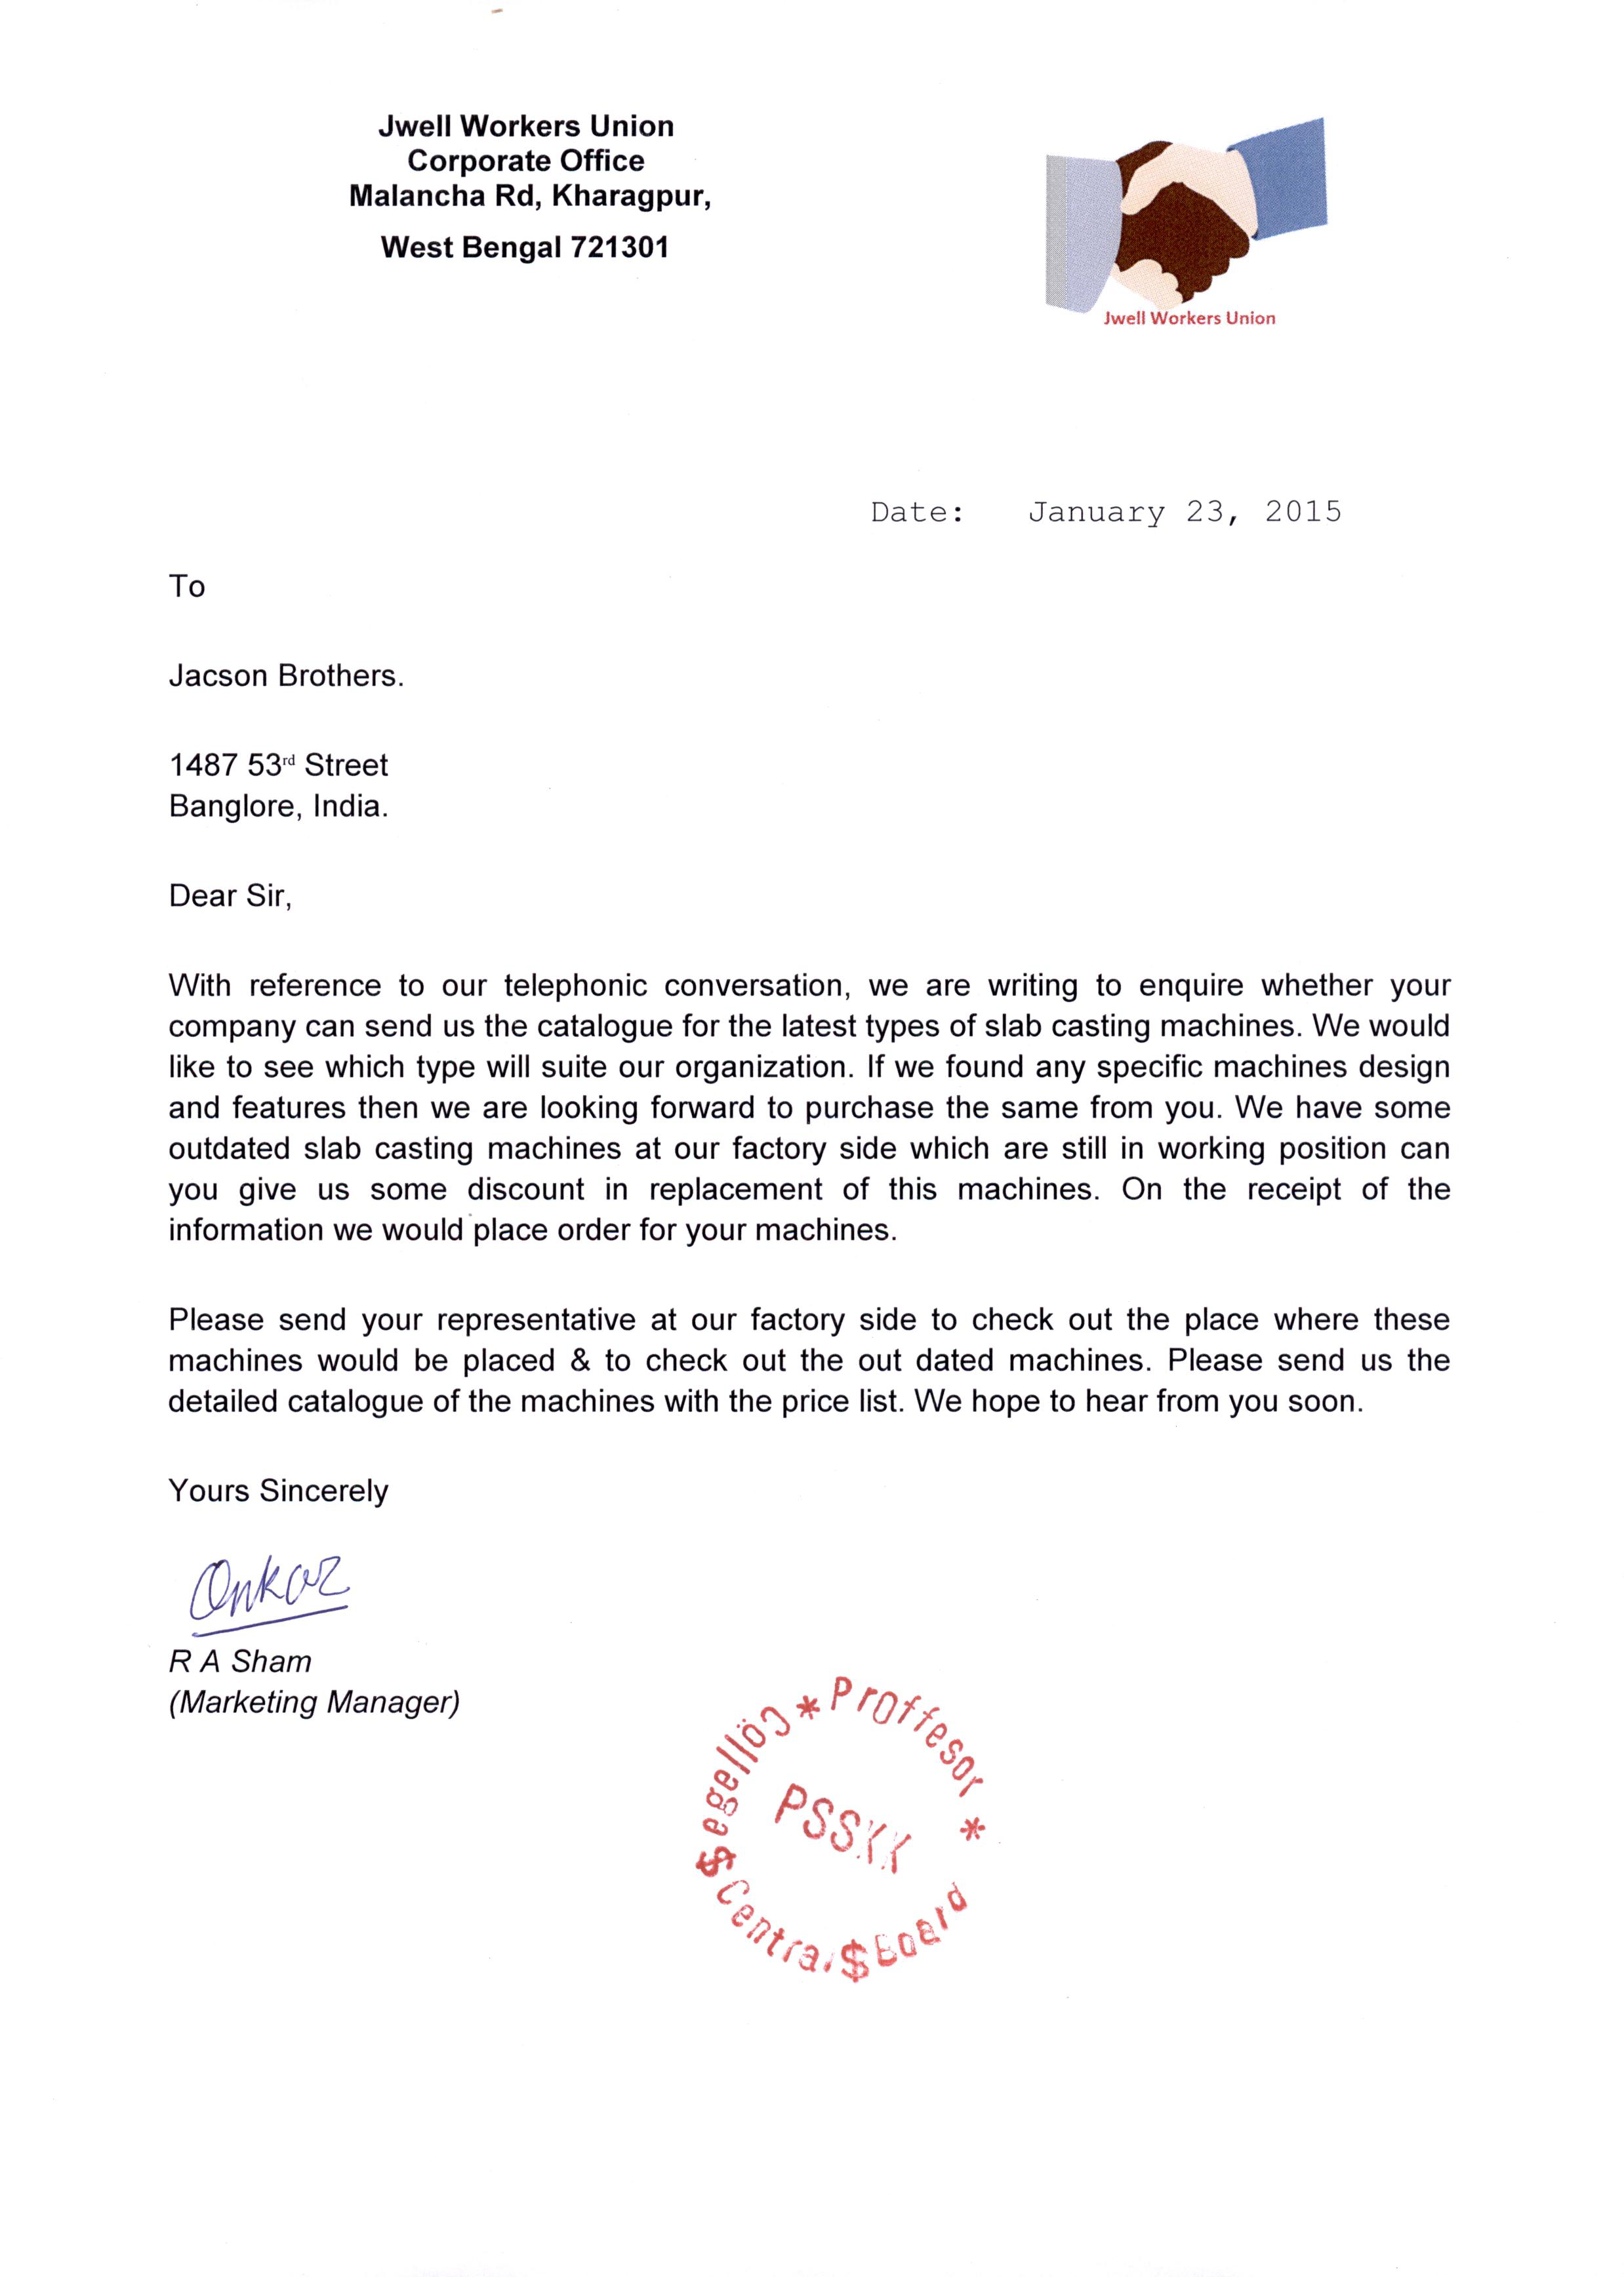Signature: (183, 1544, 357, 1641)
